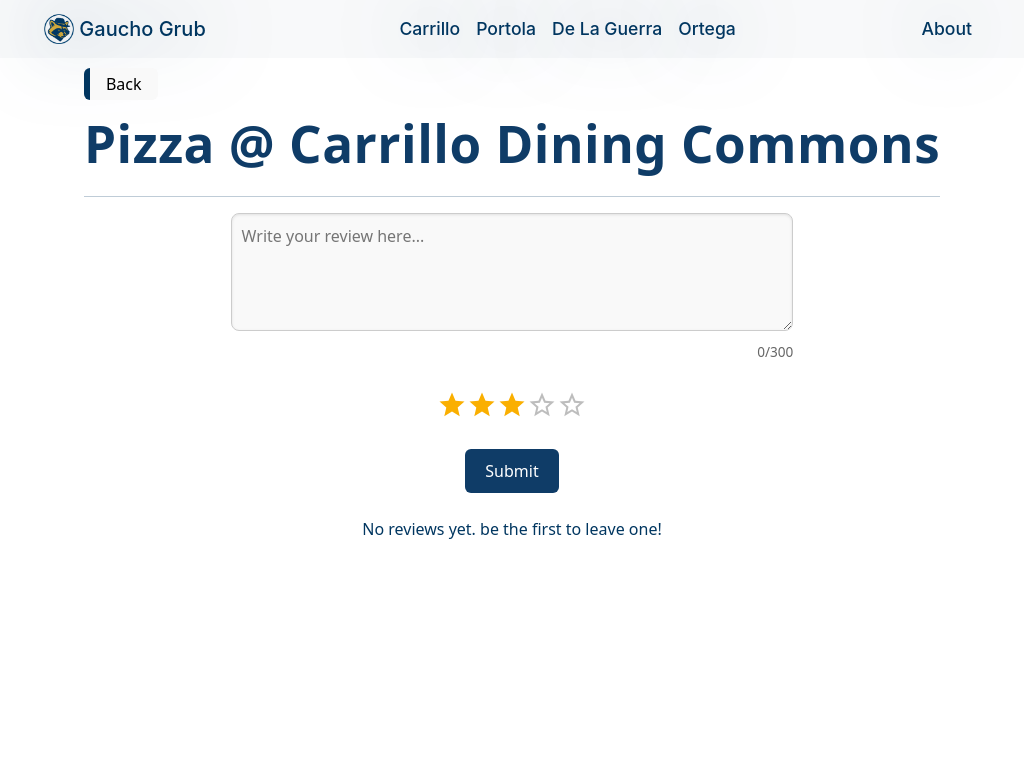
Scenario: FoodReview › submits a review, refreshes the list, and invalidates rating cache
In the text box with placeholder "Write your review here...": [512, 272] box left=231, top=213, right=793, bottom=331, type "Great!"
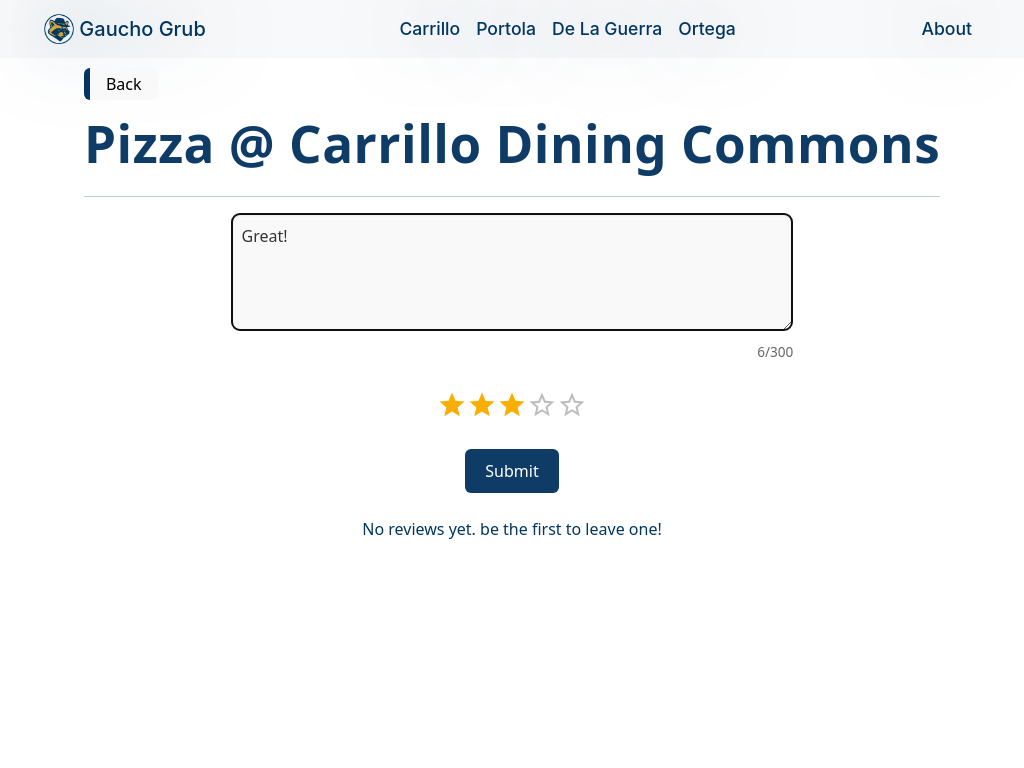
Click the button "Submit": [512, 471] box left=465, top=449, right=559, bottom=493
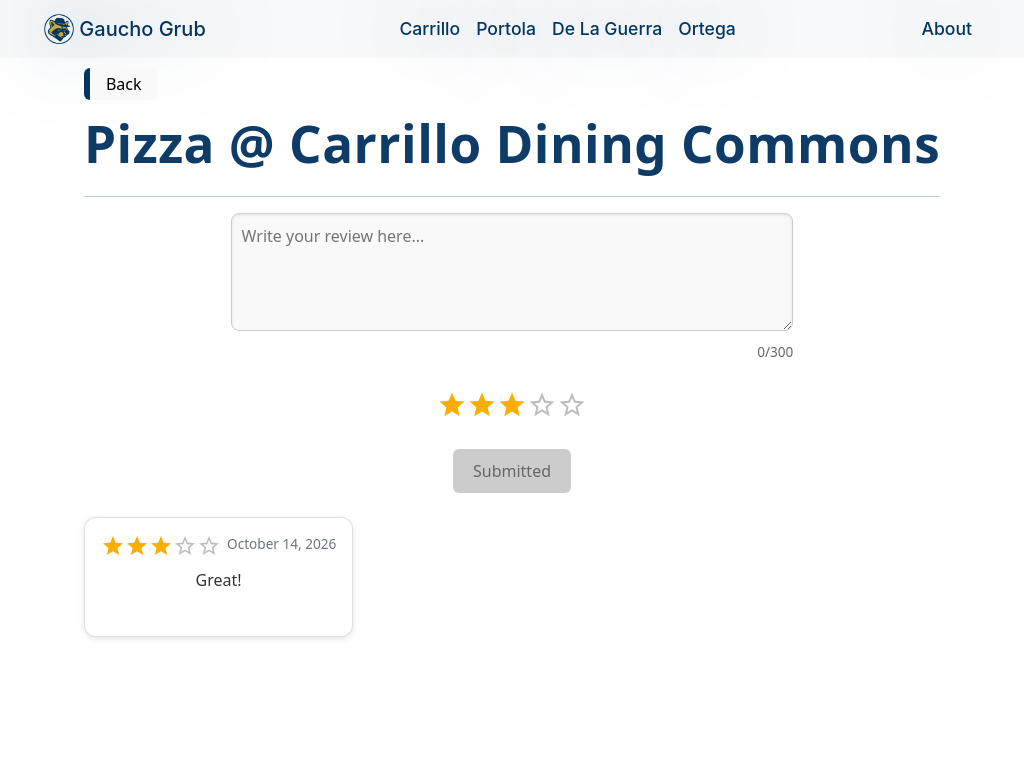
Check: the text "Great!" is shown, box left=196, top=569, right=242, bottom=591
Check: the button "Submitted" is disabled, box left=453, top=449, right=571, bottom=493
